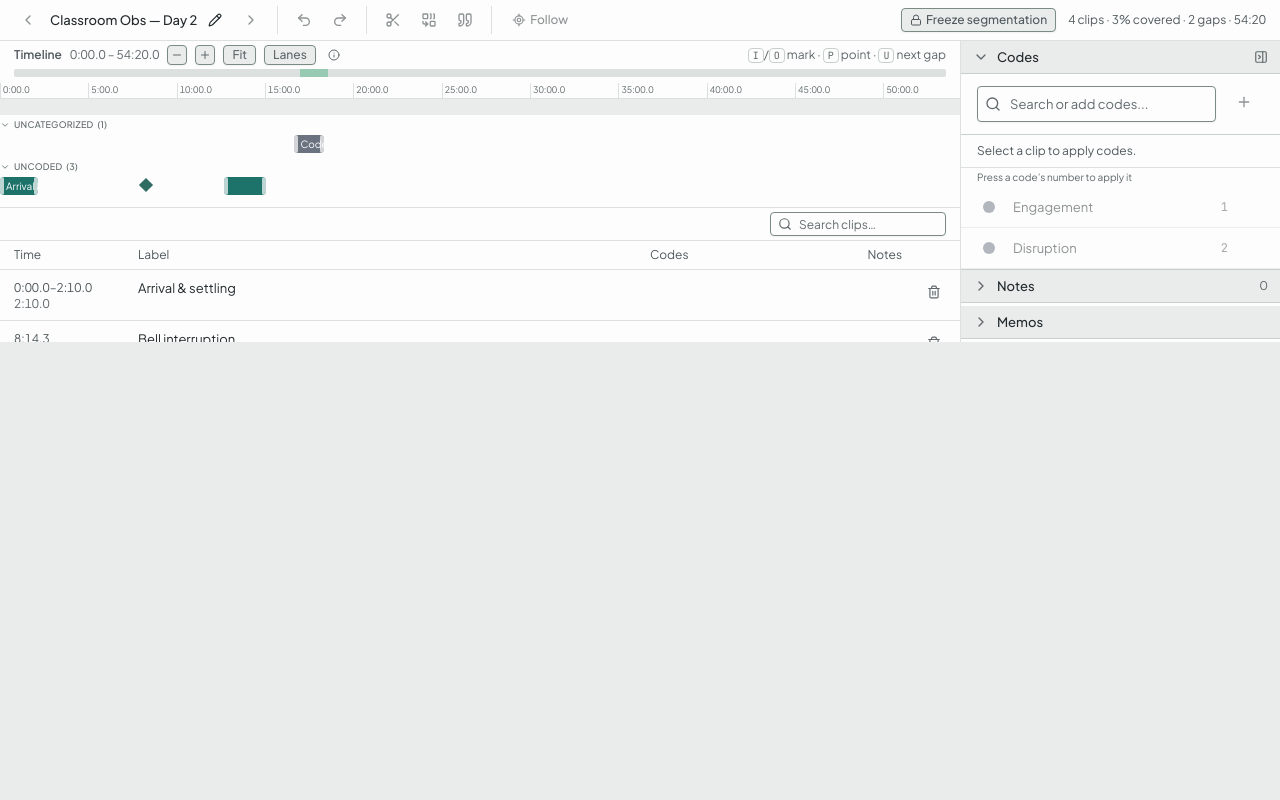
sub-clip quotes (slab 5b) › the "Quote a portion…" dialog (the keyboard/precision path) › opens prefilled to the clip range and refuses a range outside it
The width and height of the screenshot is (1280, 800).
Click the option "0:00.0–2:10.02:10.0 Arrival & settling".
click(53, 288)  # box [0,270,960,321]
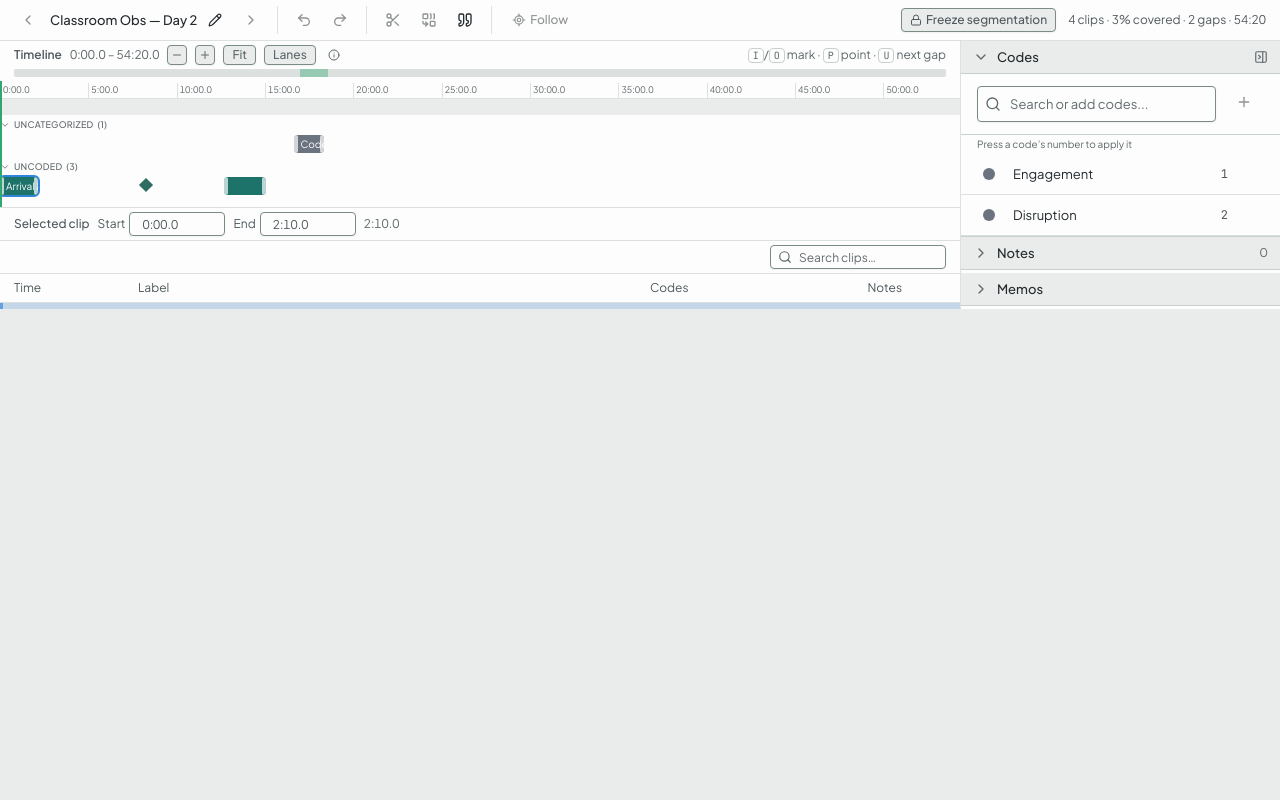
Click the button named "Quote a portion of the selected clip".
click(465, 20)  # box [451,6,479,34]
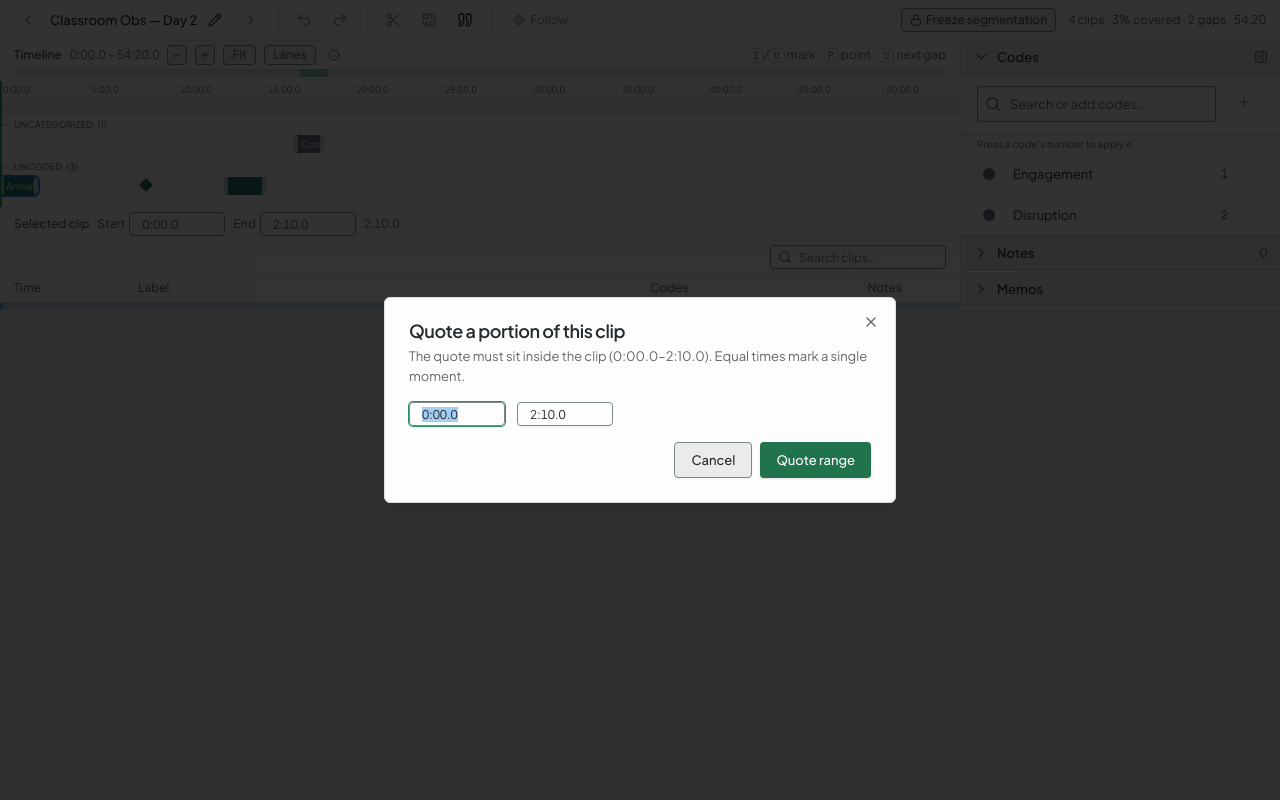
Now the field named "Quote start time" holds "0:00.0", box [409,402,505,426]
Now the field named "Quote end time" holds "2:10.0"
Push the end past the clip's own end — the dialog names it and blocks.
Replace the text in the field named "Quote end time" with "3:00.0" at (565, 414), box [517,402,613,426]
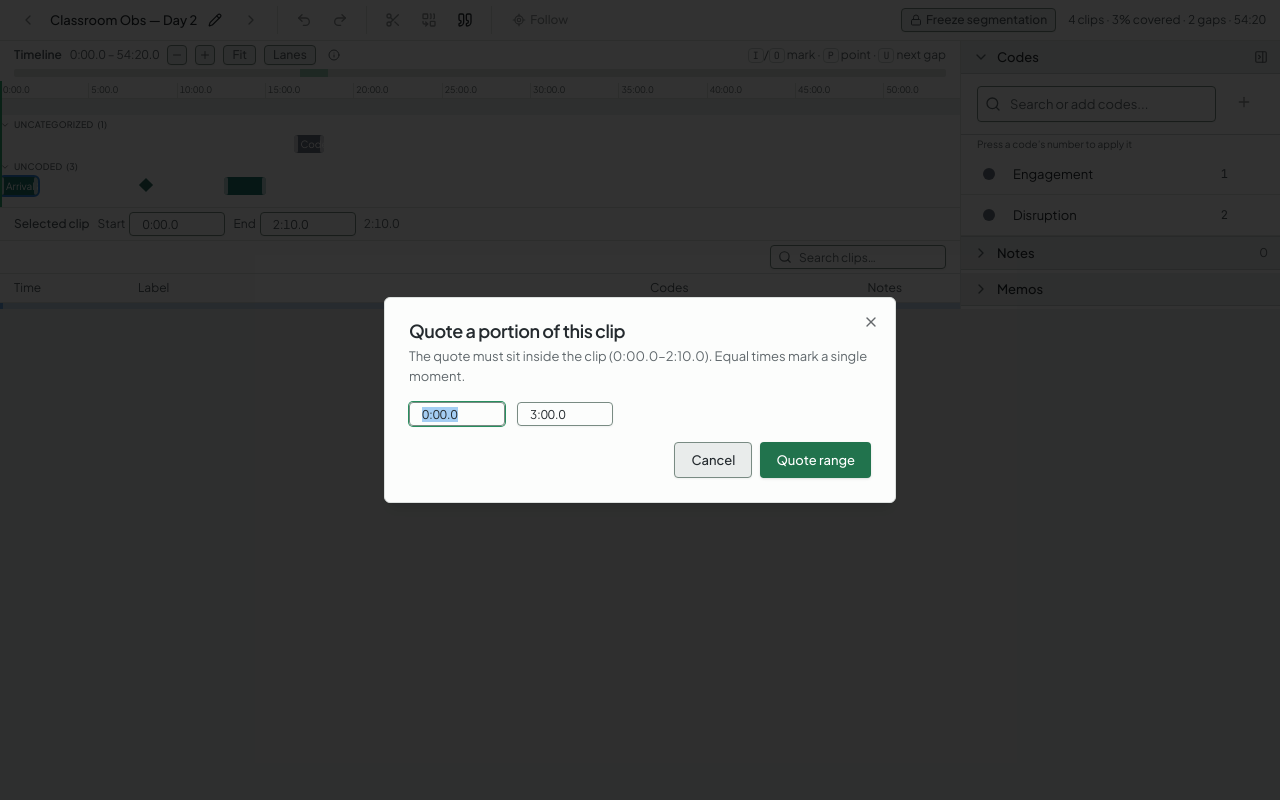
Leave the field named "Quote end time", box [517,402,613,426]
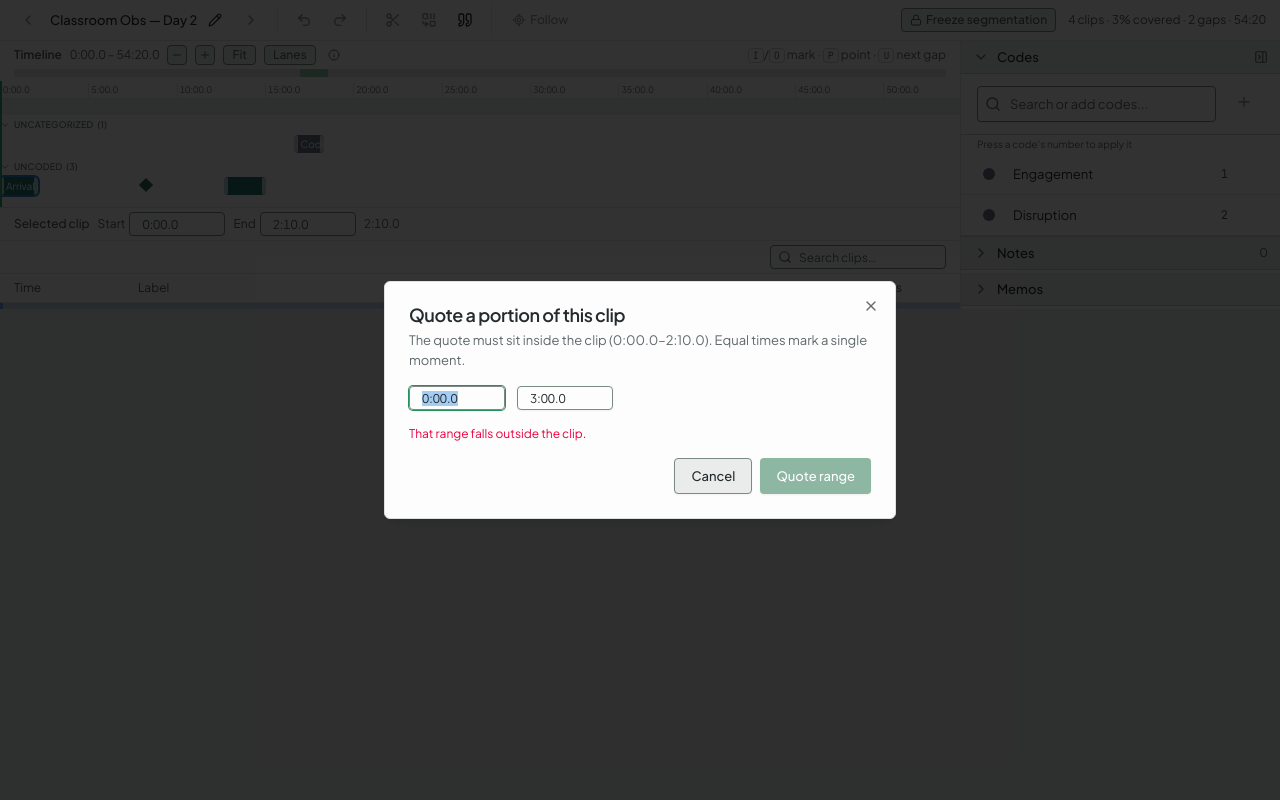
Now the message shows "outside the clip", box [409,426,586,441]
Now the button "Quote range" is disabled, box [760,458,871,494]
